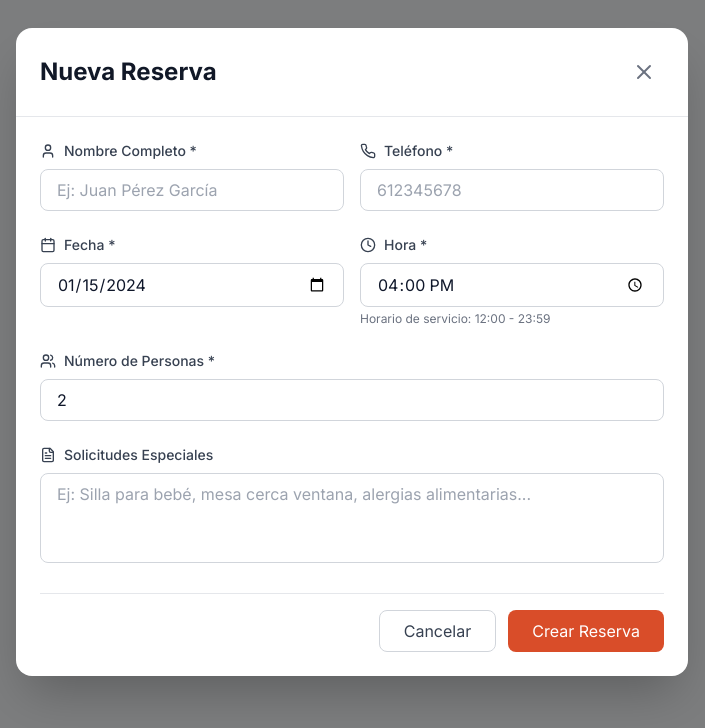
ReservaForm Component › Phone Number Validation › should show error when phone field is empty
Click the button "Crear Reserva" at (586, 631), box [508,610,664,652]
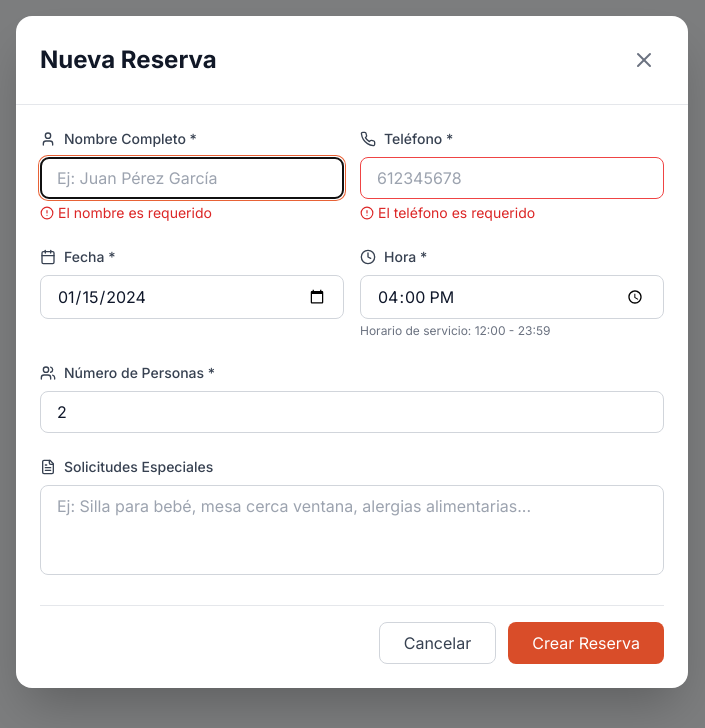
Expected: the text "El teléfono es requerido" is shown, [378,203,535,223]
